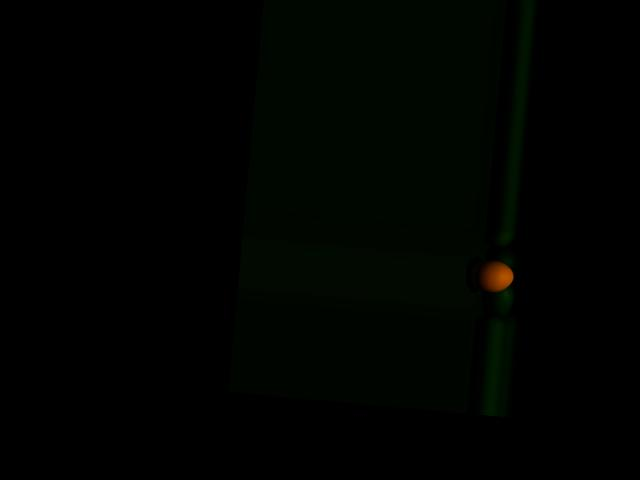egg: (468, 258, 514, 294)
